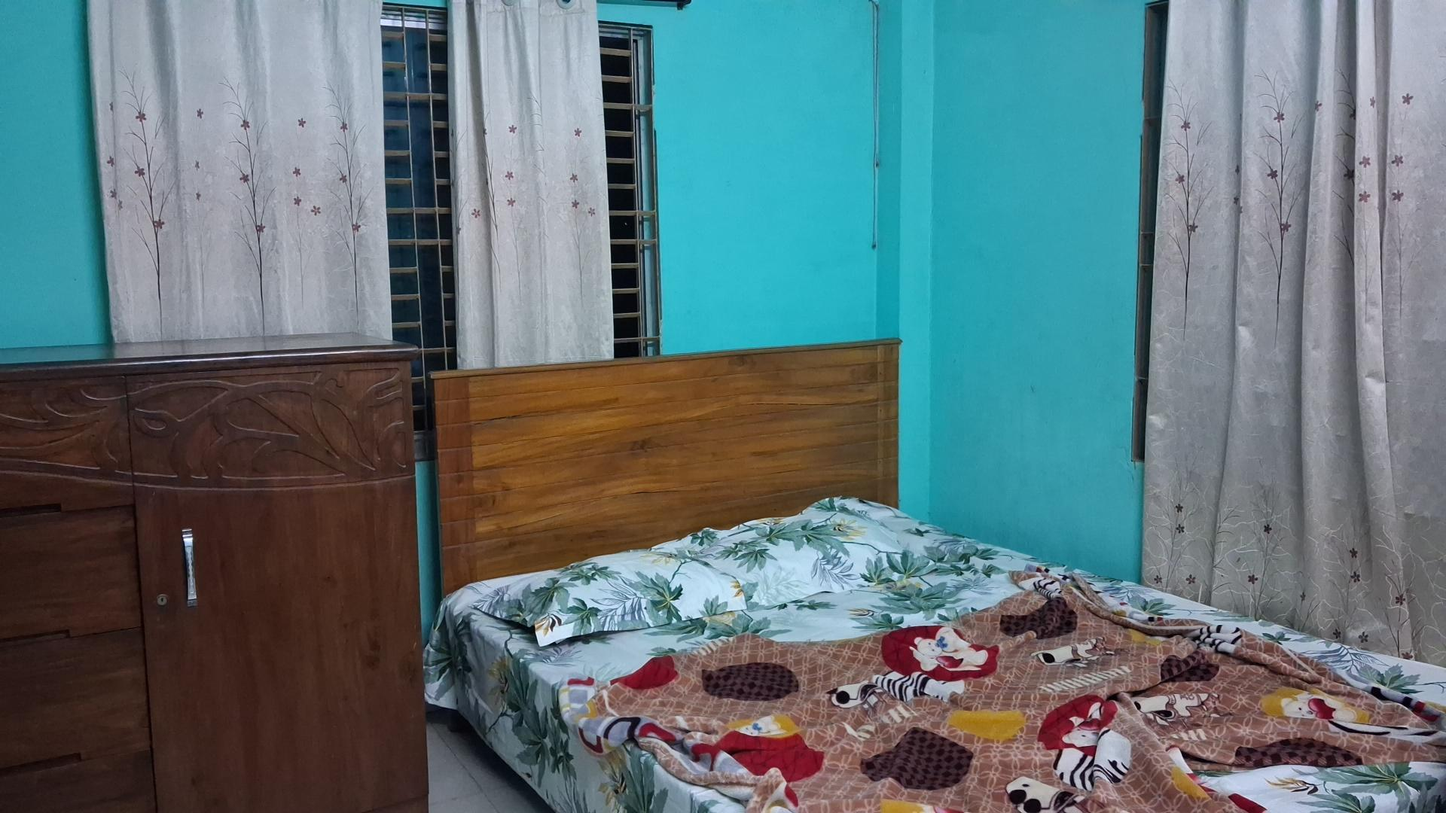Blanket: (597, 645, 1432, 810)
Pillow: (495, 550, 751, 633)
Window: (383, 2, 653, 359), (691, 505, 942, 584)
